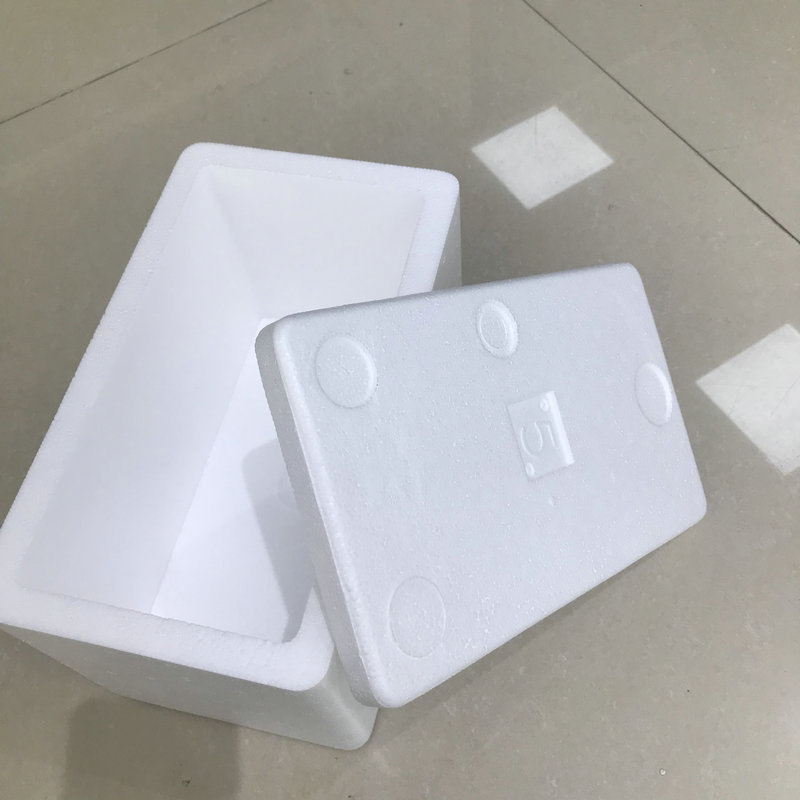Boxes: (0, 144, 458, 750), (255, 265, 705, 706)
